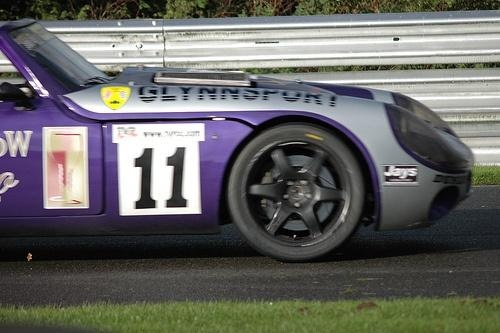car: (5, 18, 482, 255)
